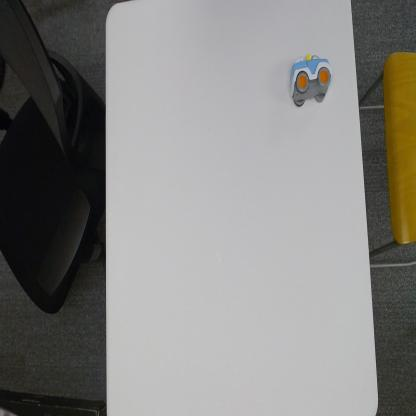Car: (289, 52, 333, 107)
